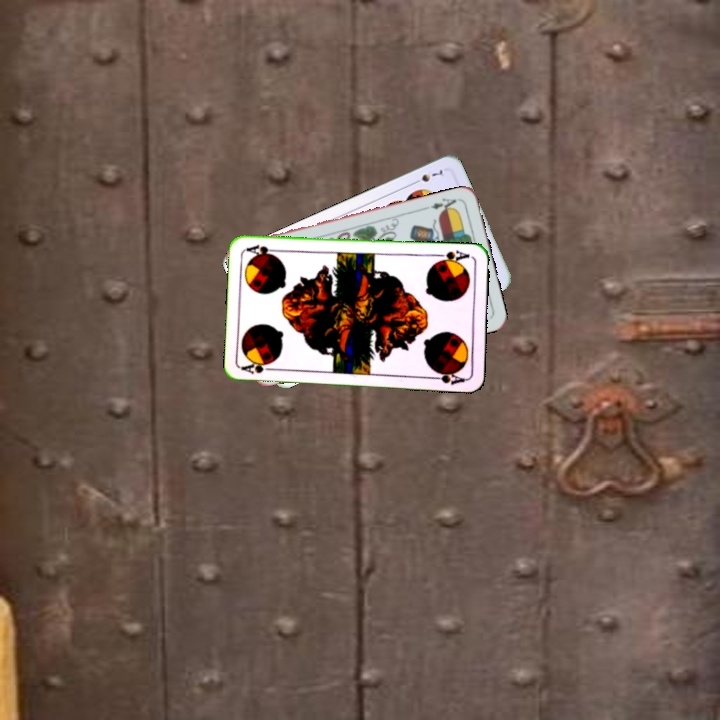EA: (422, 194, 462, 215)
S7: (408, 165, 446, 187)
SA: (432, 246, 472, 266), (239, 359, 279, 377)
